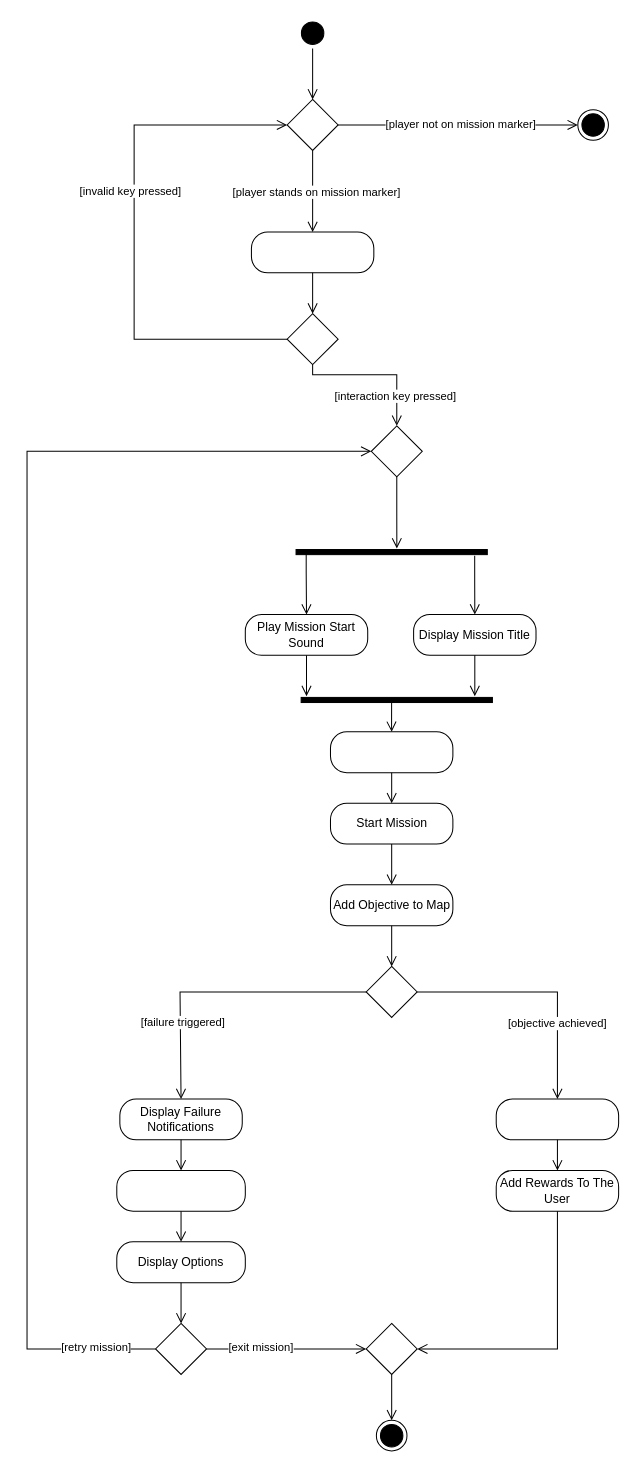
The diagram is 636 pixels wide and 1469 high, and some of its shapes have lost their labels. The centre of each missing label's shape, as x and y in pixels:
"Clear Mission Information from HUD" goes at (x=180, y=1190).
"Display Mission Information" goes at (x=312, y=252).
"Display Success Notification" goes at (x=557, y=1119).
"Update Mission Information in HUD" goes at (x=391, y=752).
